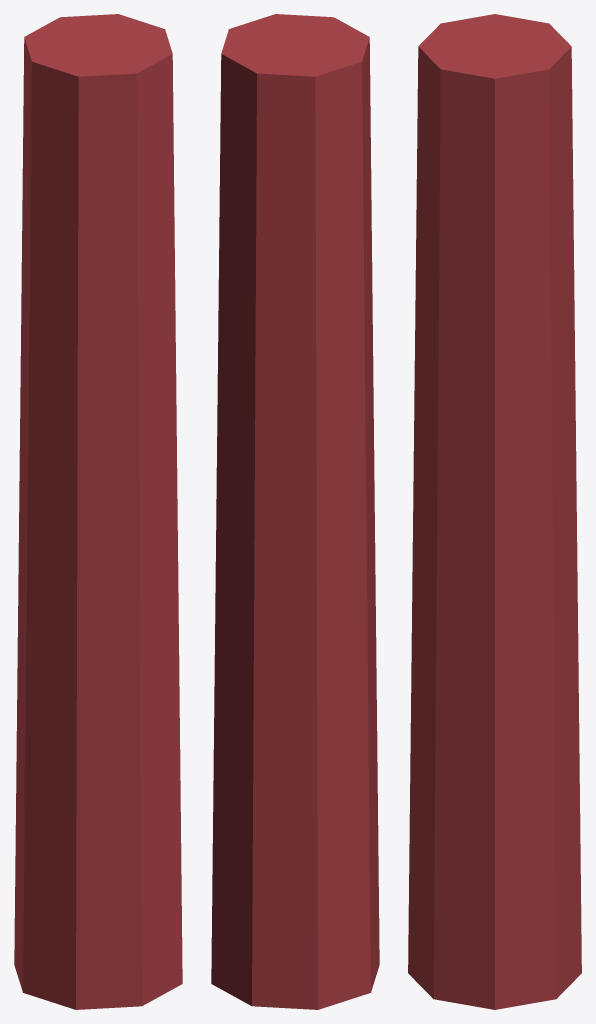
The model's file is wk_muscle_neck_v01.glb.
3 renders of one model, left to right at view 1: azimuth 30°, elevation 25°; view 2: azimuth 150°, elevation 25°; view 3: azimuth 270°, elevation 25°, orthographic.
Parts seen in each view (by area): view 1: GEO_Muscle_neck; view 2: GEO_Muscle_neck; view 3: GEO_Muscle_neck.
Boxes of the visible parts, bbox=[...] form: GEO_Muscle_neck: bbox=[14, 14, 182, 1009]; GEO_Muscle_neck: bbox=[211, 14, 379, 1009]; GEO_Muscle_neck: bbox=[408, 14, 581, 1009].
Bounding box in the file's own units: 0.17 × 1 × 0.17.
